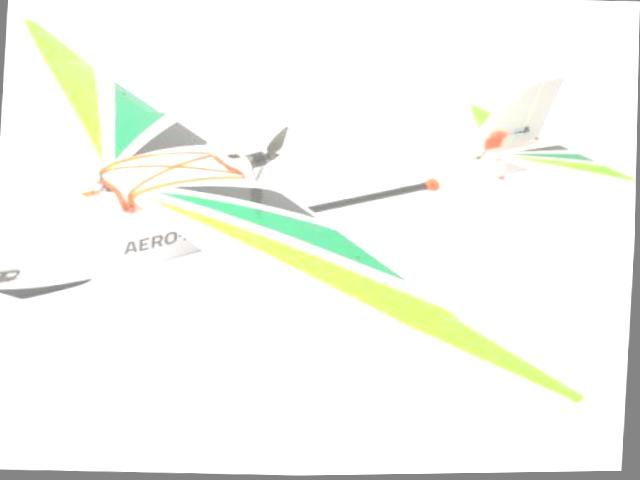uav: (0, 7, 640, 423)
